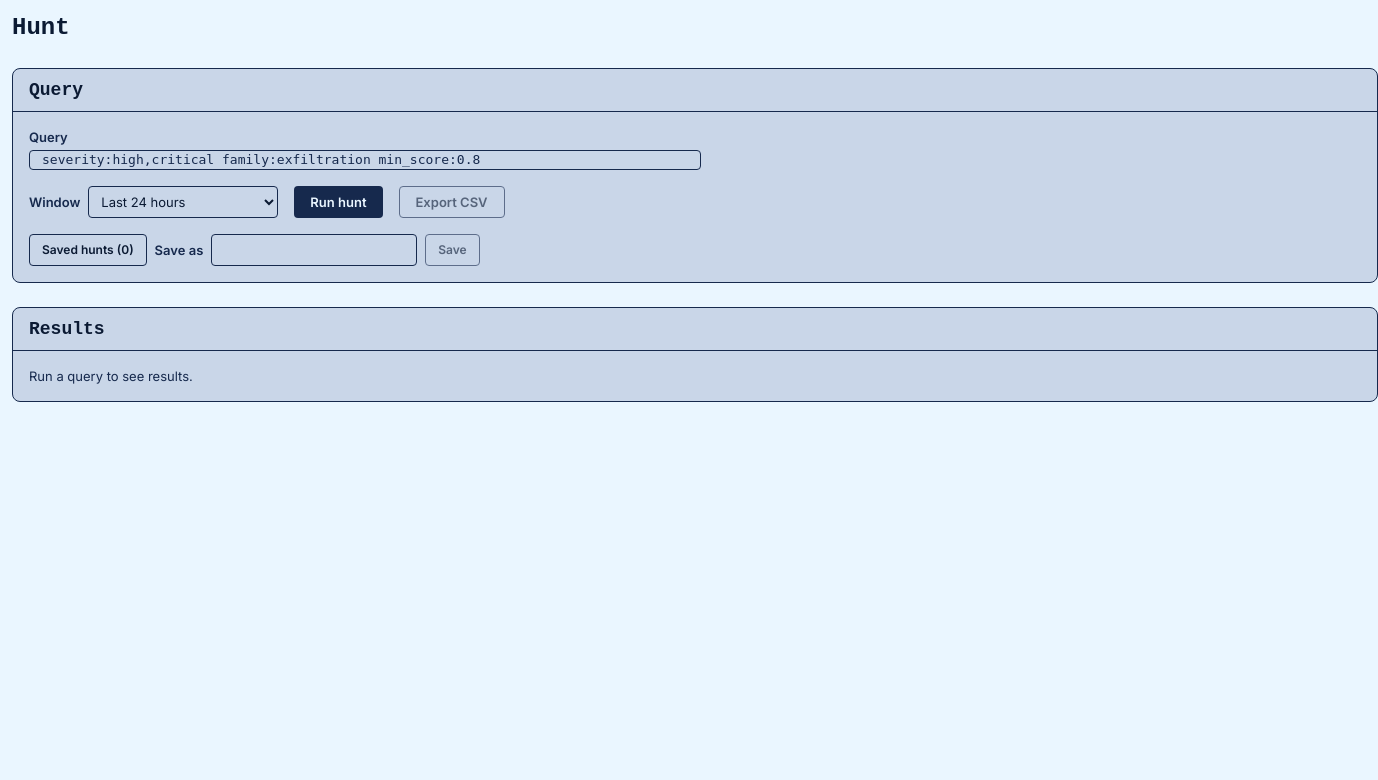
the hunt console › renders the executed query and the time range when nothing matched (§4.6)
Step 1. Type "family:lateral-movement" into the dropdown labelled "Query" → x=365, y=160, box [29,150,701,170]
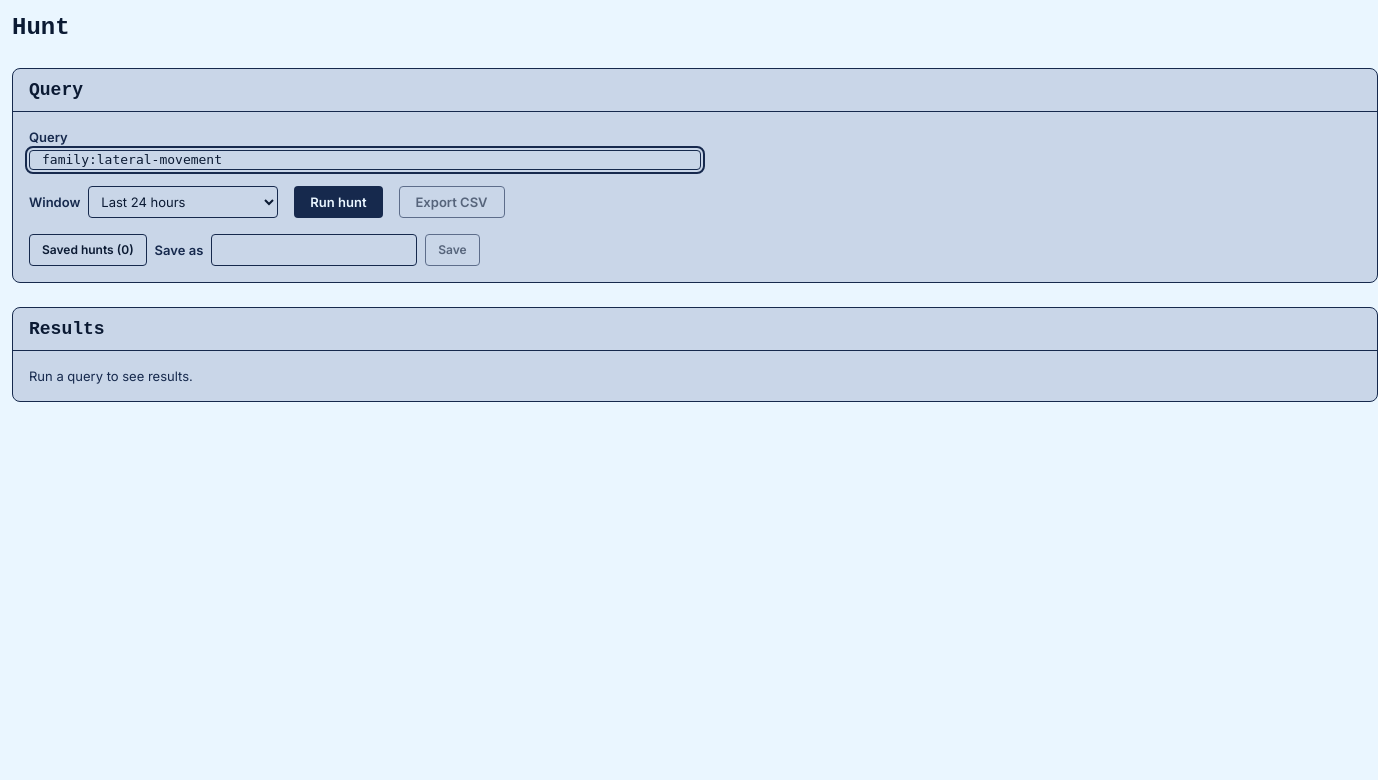
Step 2. Click the button "Run hunt" → x=338, y=202, box [294,186,382,218]
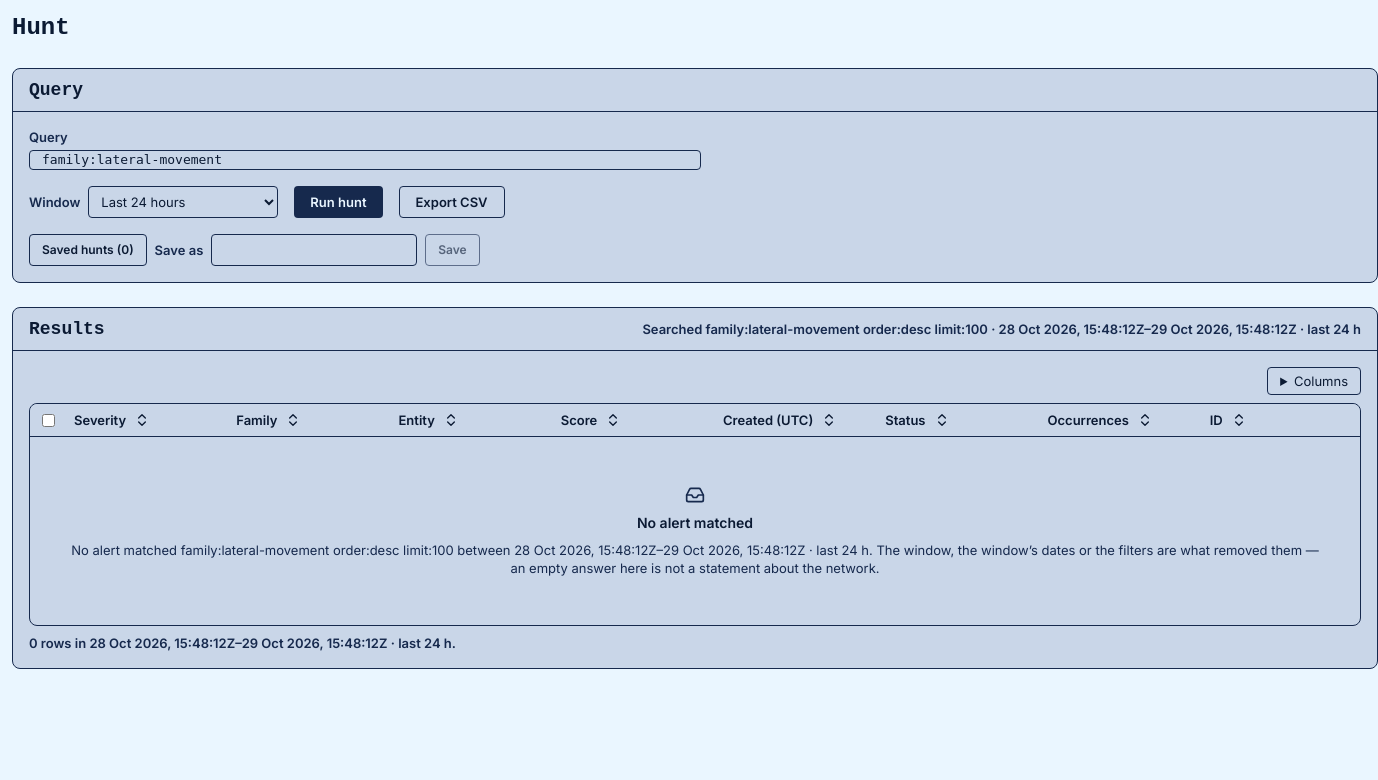
Expected: the text "No alert matched" is shown, [637,513,753,533]
Expected: the text "family:lateral-movement order:desc limit:100 between" is shown, [71,542,1319,576]
Expected: the text "Searched family:lateral-movement order:desc limit:100" is shown, [642,321,1361,337]
